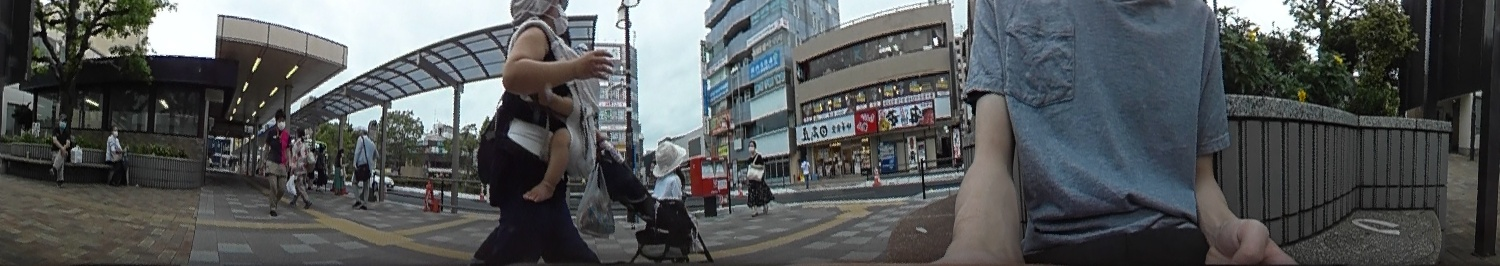difficult_person: (334, 147, 348, 190), (315, 144, 327, 188)
person: (487, 0, 608, 266), (646, 138, 690, 226), (265, 104, 289, 218), (744, 138, 772, 212), (353, 131, 378, 205), (290, 130, 311, 203), (50, 113, 69, 186), (106, 124, 127, 185)
